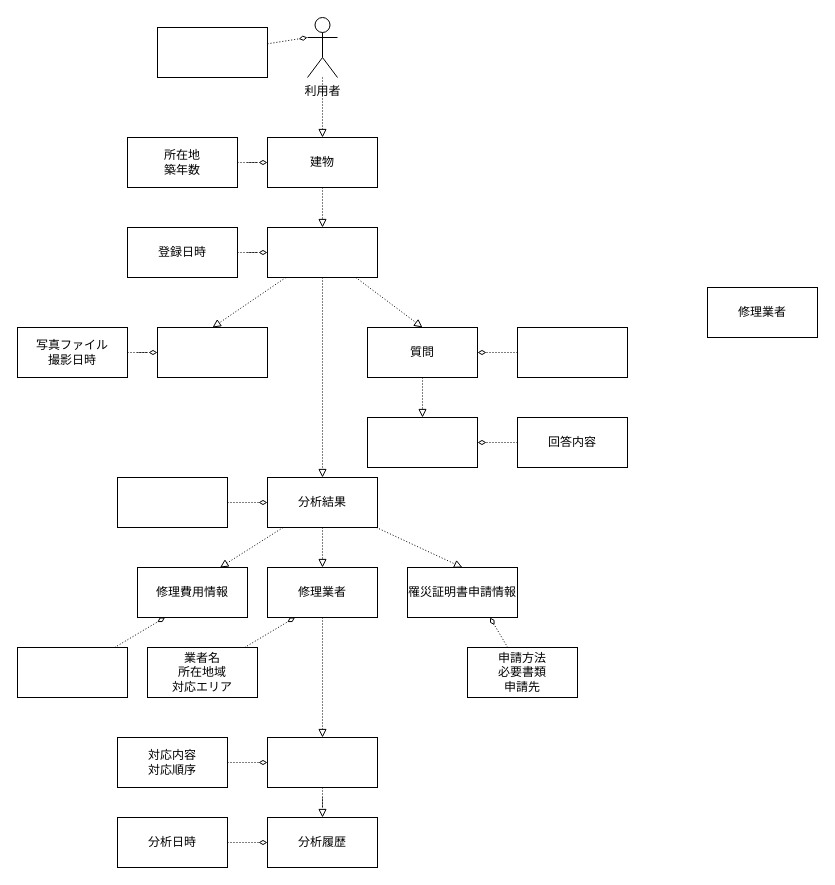
Image size: 835x885. Some labels were removed from this diagram. The box of each missing label's shape, as (x1, y1, x2, y2) in pixels:
修理内容 費用下限 費用上限: (16, 646, 128, 698)
利用者ID LINE認証ID: (156, 26, 268, 78)
回答: (366, 416, 478, 468)
対応案内: (266, 736, 378, 788)
被害写真: (156, 326, 268, 378)
被害情報: (266, 226, 378, 278)
被害程度 主な被害箇所 分析日時: (116, 476, 228, 528)
質問内容: (516, 326, 628, 378)
